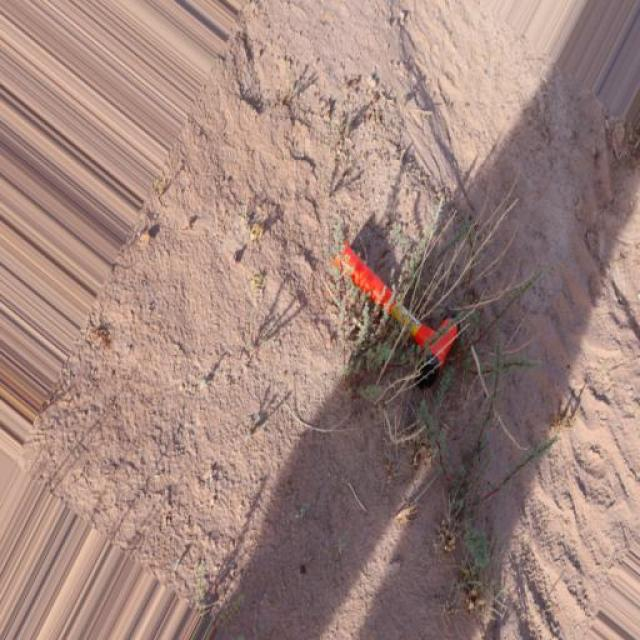mallet: (330, 238, 460, 388)
